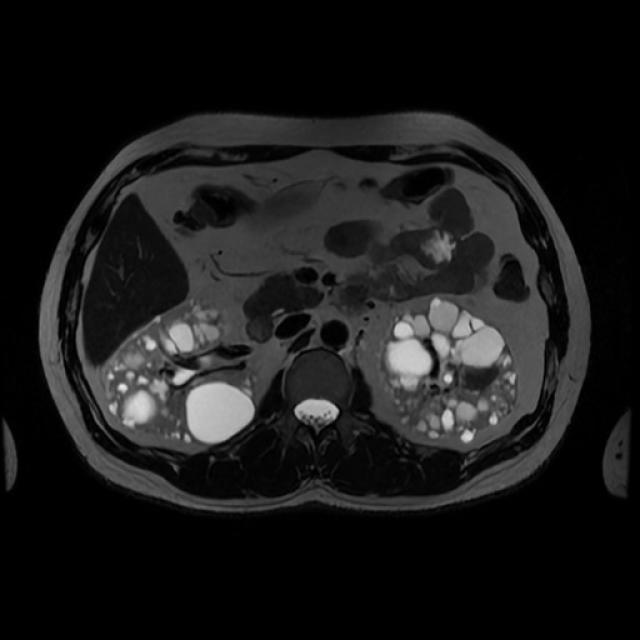sag: (101, 297, 258, 448)
sol: (375, 297, 518, 441)
